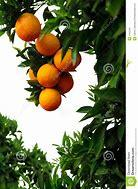orange: (35, 65, 79, 108), (14, 4, 40, 44), (53, 46, 82, 72), (34, 34, 59, 54)
